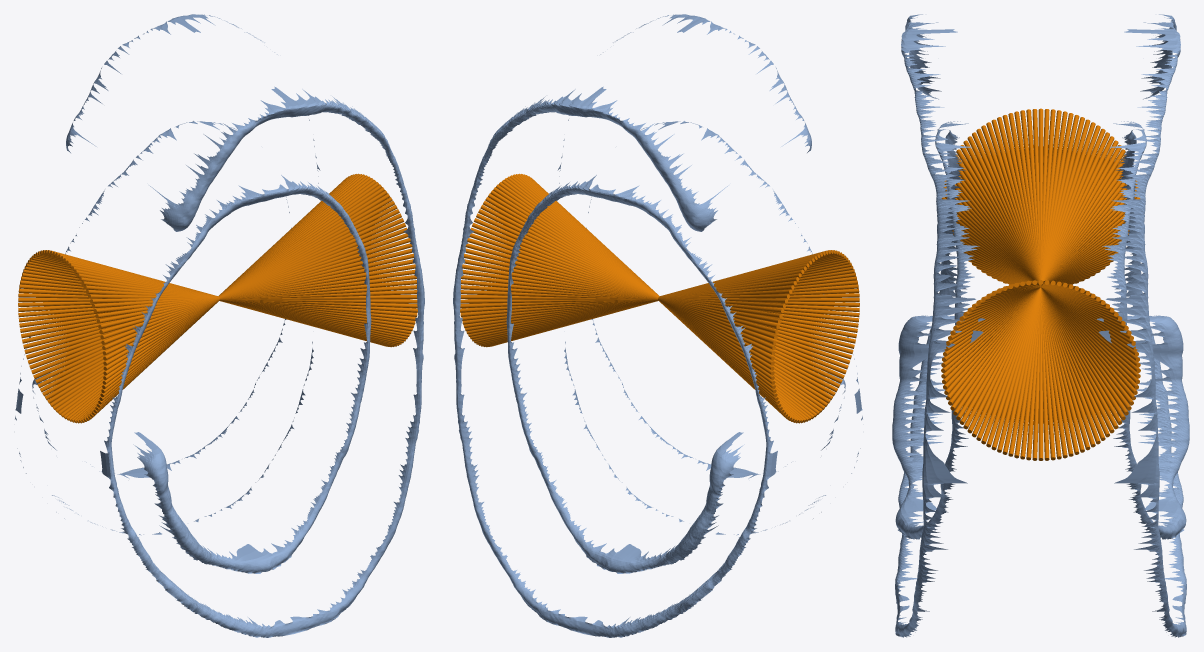
File: A20024982_5995-37-531-2345_DigitalTwin.glb
3 renders of one model, left to right at view 1: azimuth 30°, elevation 25°; view 2: azimuth 150°, elevation 25°; view 3: azimuth 270°, elevation 25°, orthographic. The views are drawn at different scales.
Visible parts, largest first — view 1: world; view 2: world; view 3: world.
Boxes of the visible parts, <box> form: world: <box>15,14,424,637</box>; world: <box>453,14,862,637</box>; world: <box>892,14,1189,637</box>.
Bounding box in the file's own units: 345 × 549 × 251.
